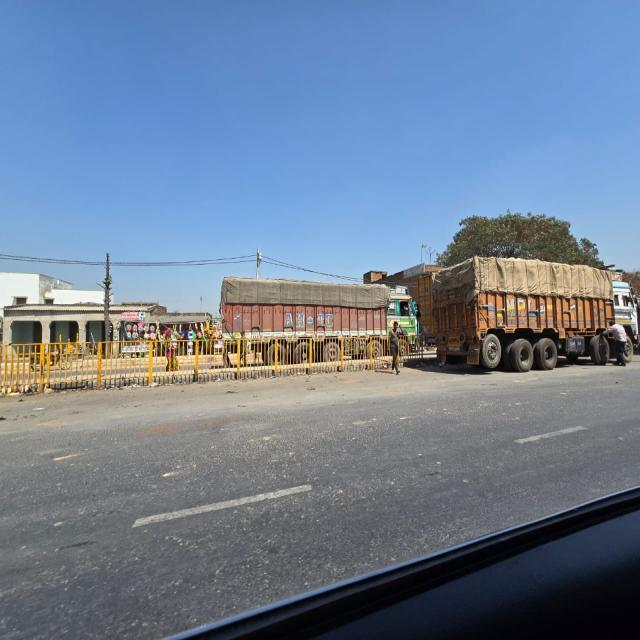covered: (438, 270, 621, 370), (215, 276, 392, 356)
